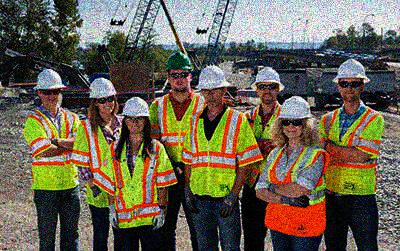helmet: (277, 94, 313, 142), (333, 57, 370, 102), (197, 64, 231, 107), (250, 65, 285, 104), (33, 68, 67, 107), (165, 50, 193, 93), (88, 77, 118, 116), (122, 96, 150, 134)
